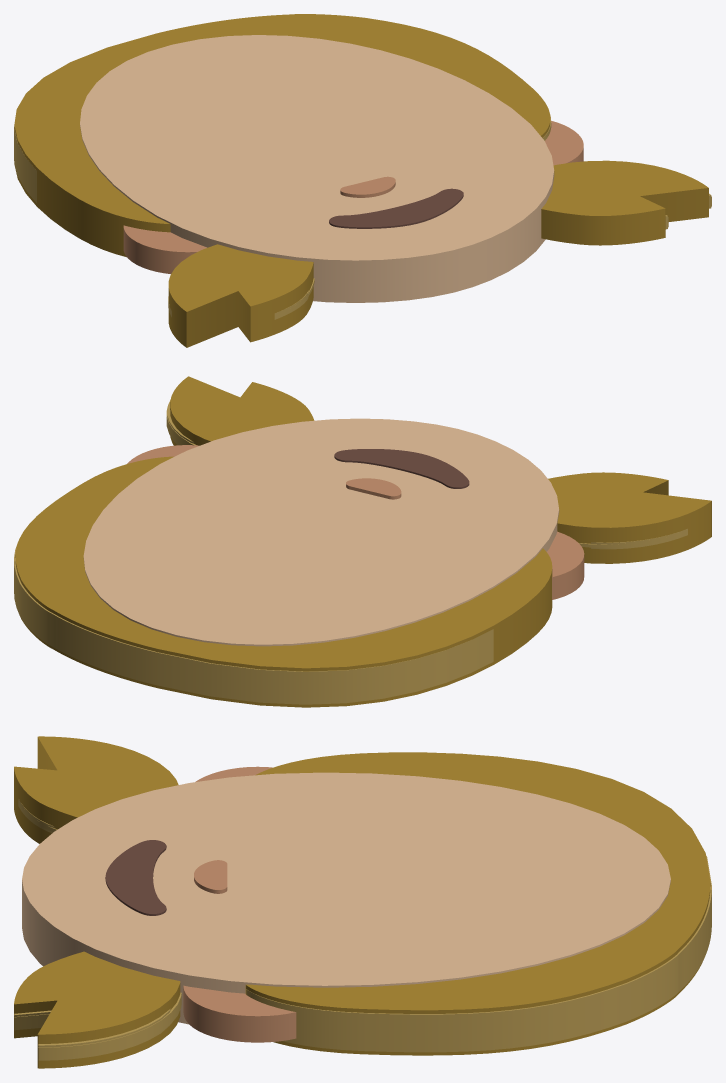
Rendered from emoji_u1f467_1f3fc.glb.
3 views of the same model, one above another, from view 1: azimuth 30°, elevation 25°; view 2: azimuth 150°, elevation 25°; view 3: azimuth 270°, elevation 25° (orthographic). The views are drawn at different scales.
Parts seen in each view (by area): view 1: emoji_u1f467_1f3fc; view 2: emoji_u1f467_1f3fc; view 3: emoji_u1f467_1f3fc.
Part boxes in pixels (<box>): emoji_u1f467_1f3fc: <box>14,14,711,347</box>; emoji_u1f467_1f3fc: <box>14,376,711,707</box>; emoji_u1f467_1f3fc: <box>14,736,711,1068</box>.
Size of the model in its own units: 0.0336 by 0.003 by 0.0335.
